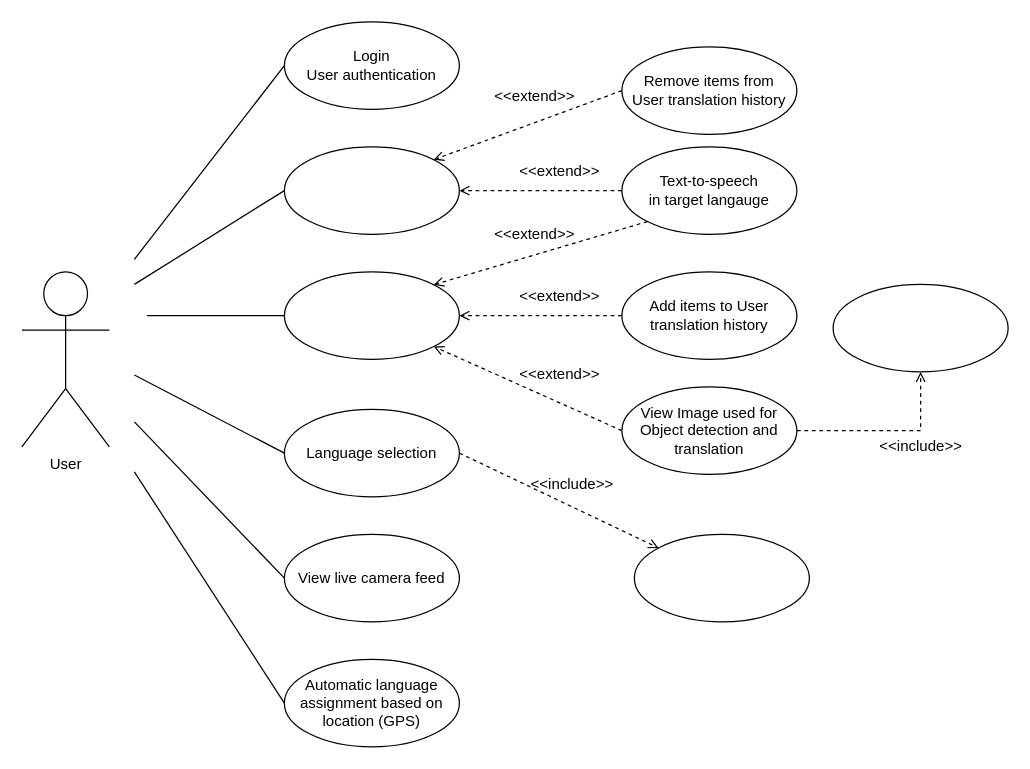
The diagram is 1030 pixels wide and 769 high, and some of its shapes have lost their labels. The shapes that lost their labels are listed below. From the top down, each one's centre as x and y in pixels, then its label:
the point at 371,190: View history
the point at 371,315: Translation
the point at 920,327: Fetch image from server
the point at 721,577: Update menu and button text
